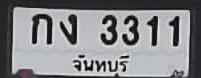1: (146, 15, 157, 45), (168, 15, 178, 45)
3: (121, 14, 138, 44), (100, 14, 116, 44)
A01: (31, 13, 51, 44)
A07: (59, 13, 76, 44)
CTI: (67, 52, 137, 78)
